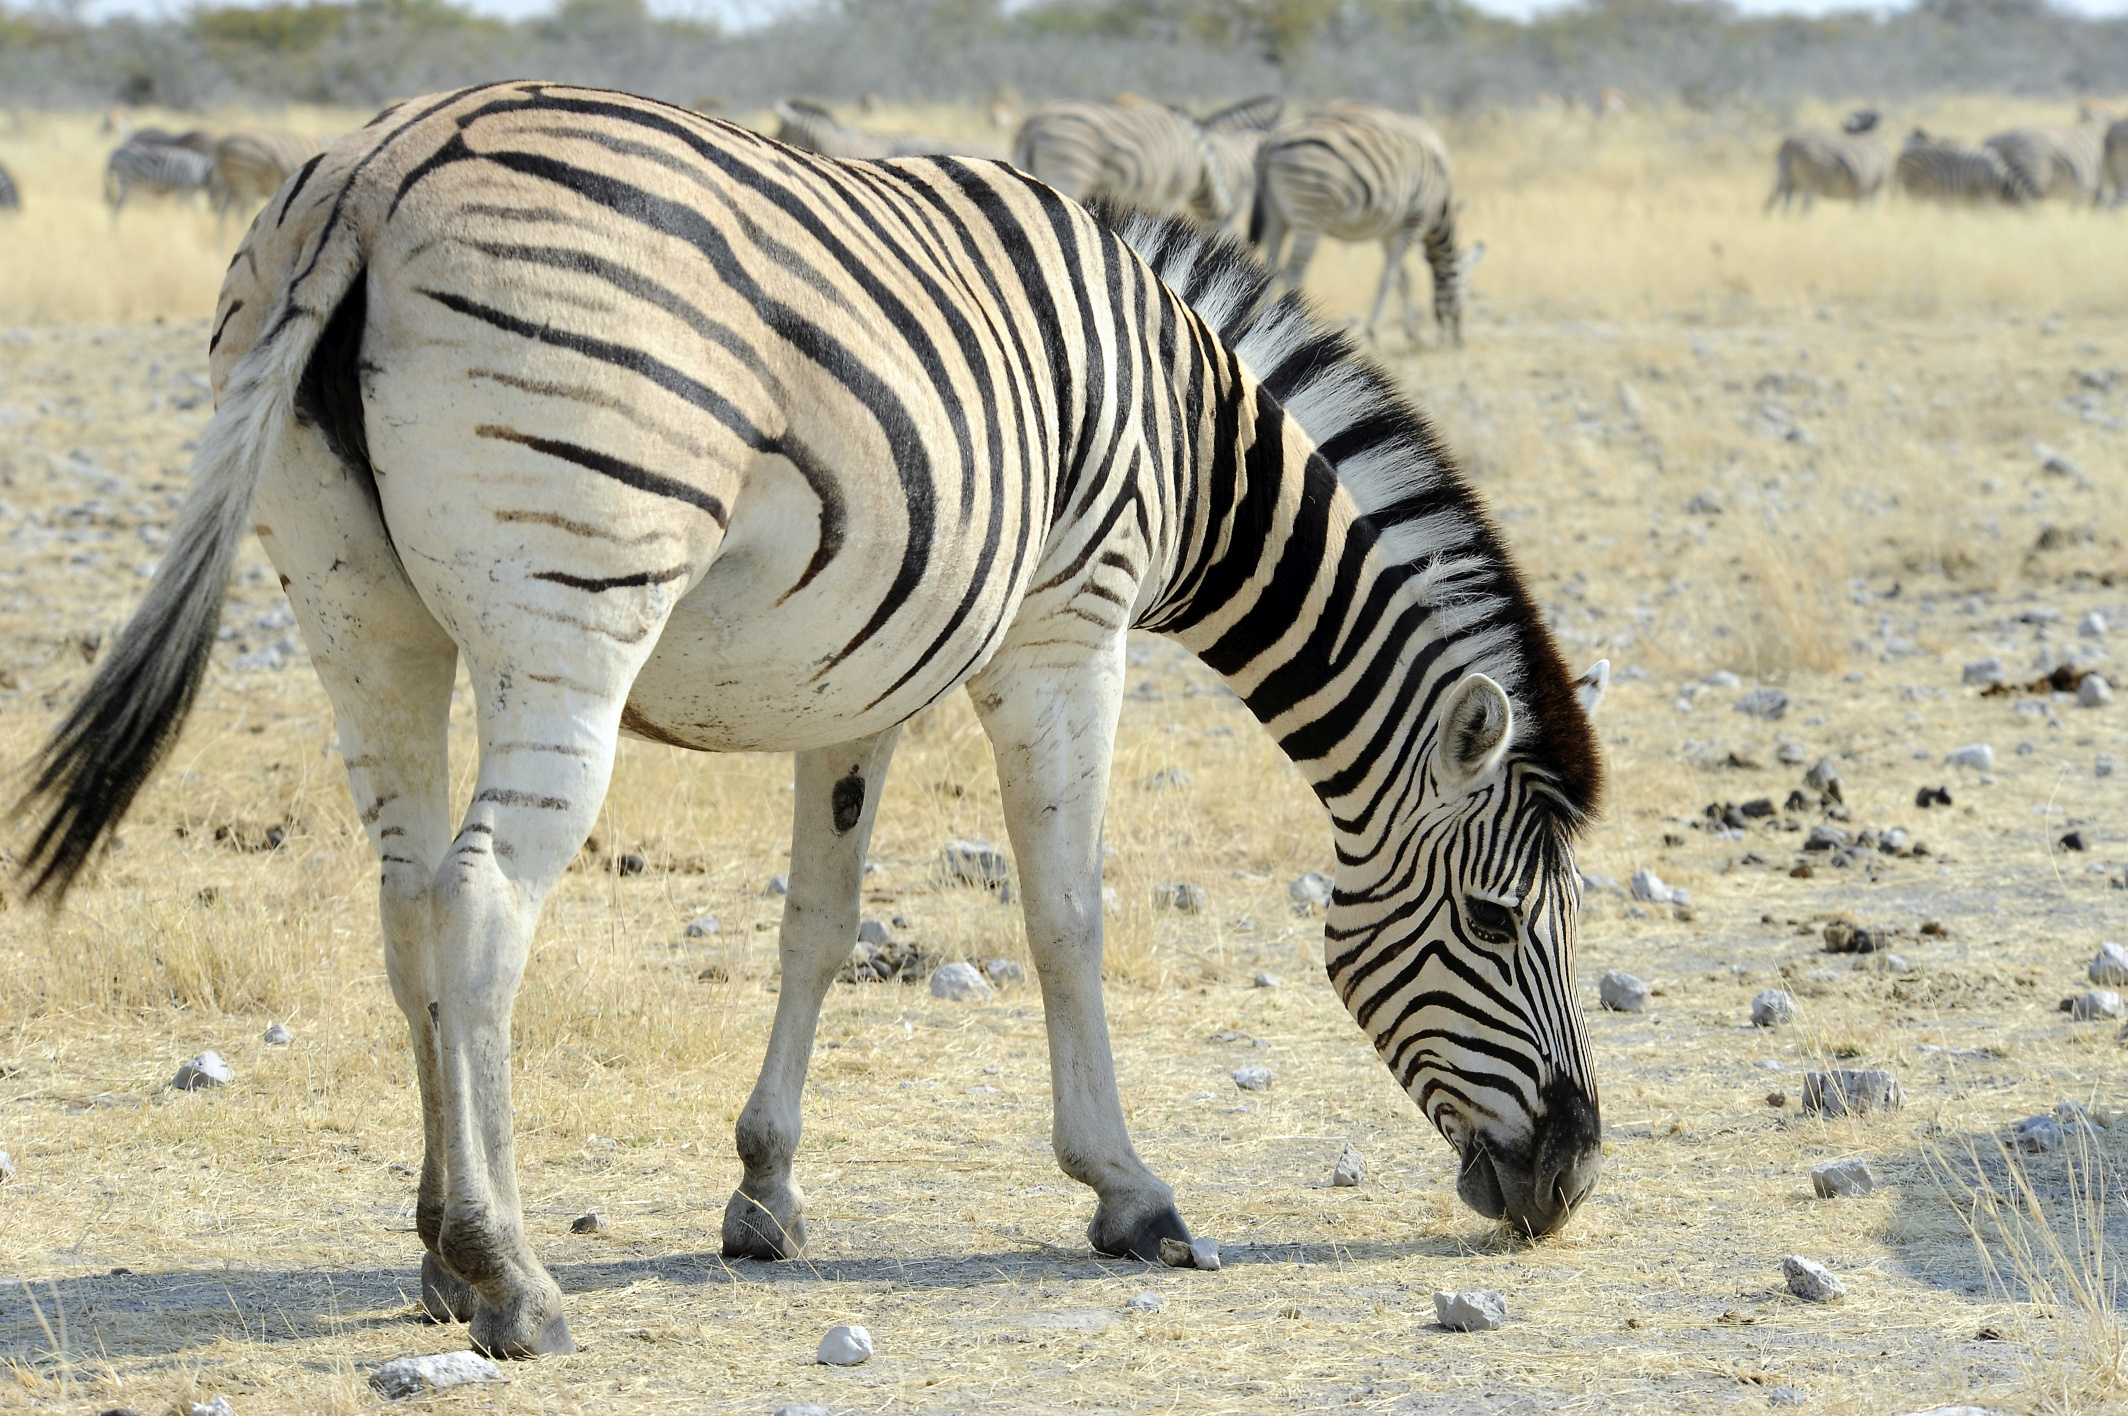zebra: (43, 76, 1605, 1339), (1240, 109, 1479, 354)
